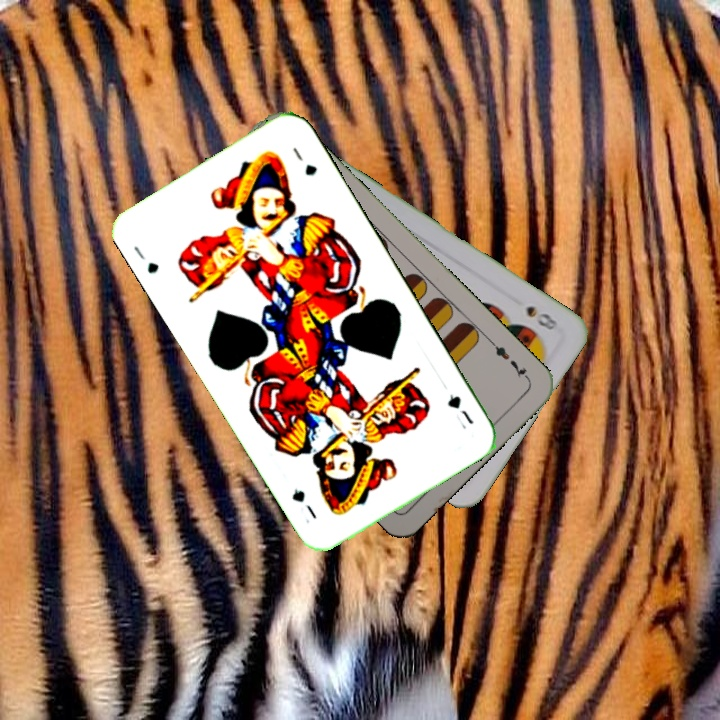E7: (486, 336, 532, 383)
GU: (443, 390, 477, 427), (129, 241, 162, 277)
S8: (522, 301, 561, 333)
